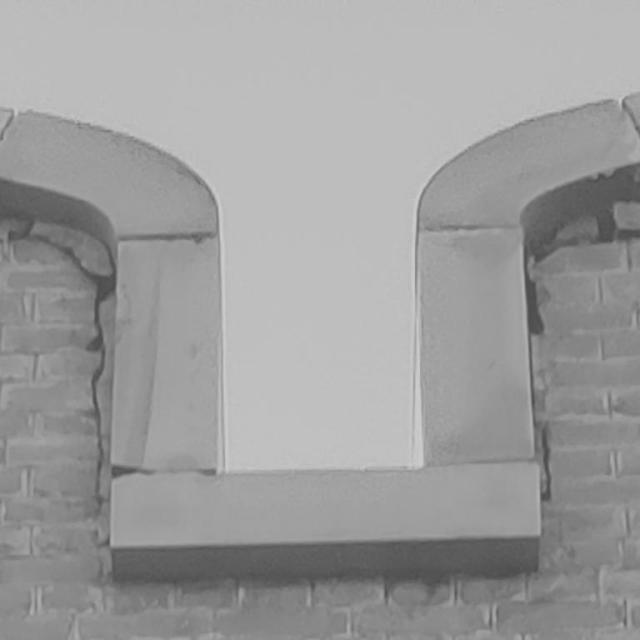crack: (8, 217, 118, 548), (526, 198, 638, 502)
